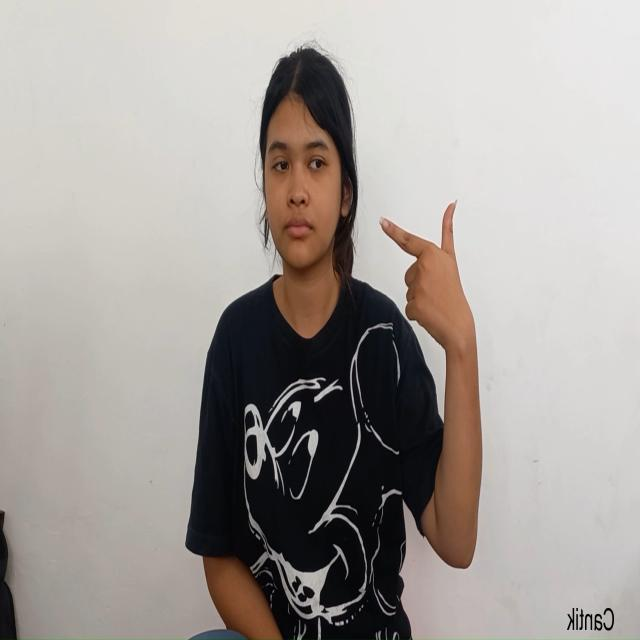Cantik -BISINDO-: (227, 34, 484, 514)
